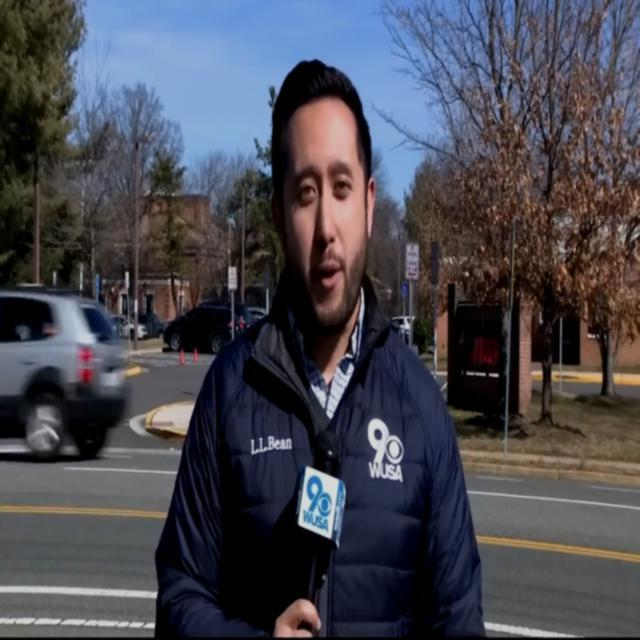non-fight: (148, 29, 519, 640)
